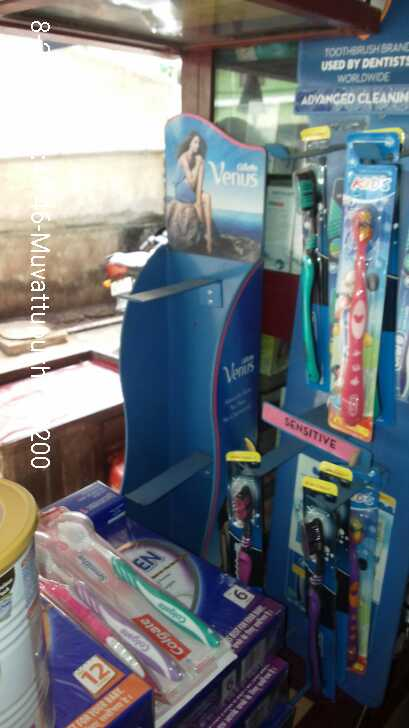pharmacy: (337, 143, 374, 432), (299, 481, 341, 706)
